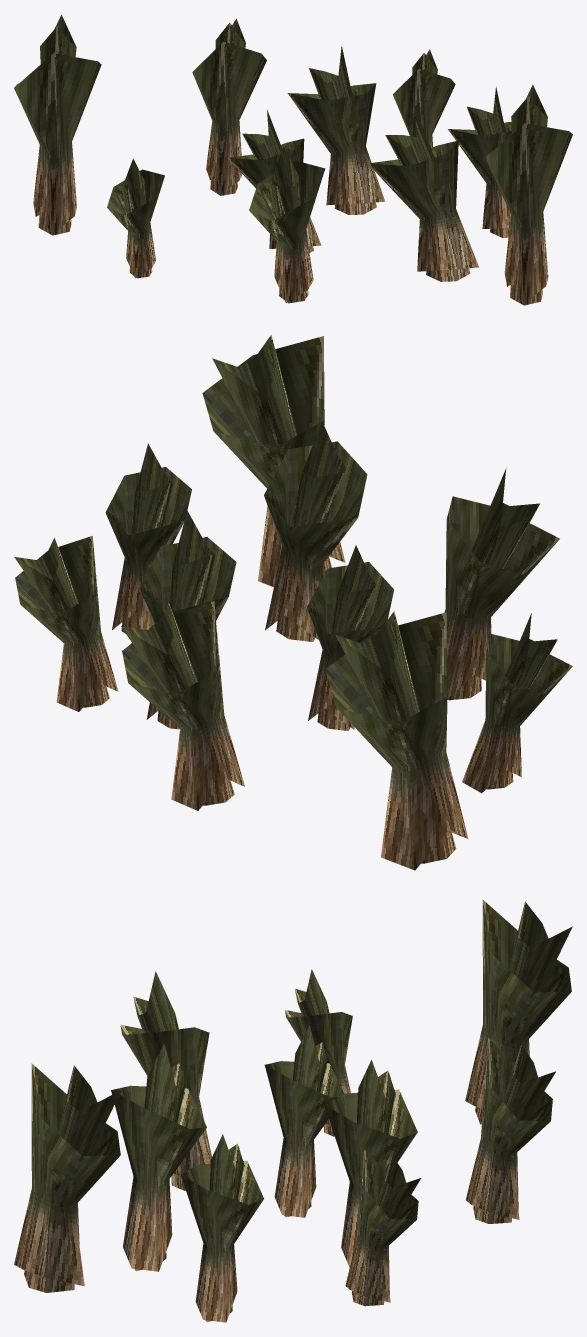
The model's file is Tree10.obj.
3 renders of one model, top to bottom at view 1: azimuth 30°, elevation 25°; view 2: azimuth 150°, elevation 25°; view 3: azimuth 270°, elevation 25°, orthographic. The views are drawn at different scales.
Visible parts, largest first — view 1: Mesh_0; view 2: Mesh_0; view 3: Mesh_0.
Boxes of the visible parts, left/top/right/bottom form: Mesh_0: left=14, top=14, right=572, bottom=305; Mesh_0: left=14, top=334, right=572, bottom=870; Mesh_0: left=14, top=900, right=572, bottom=1322.
Size of the model in its own units: 3.34 by 1.59 by 3.54.
1 material, 1 textured.
